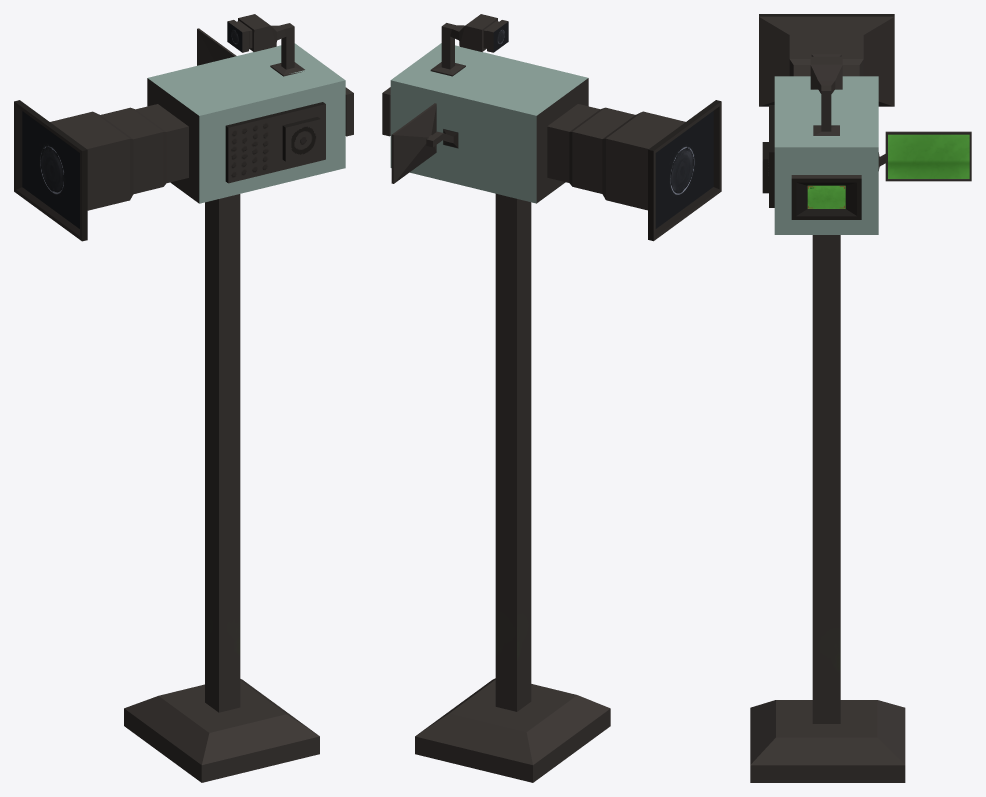
The model's file is Camera_Stand.fbx.
The picture shows the model from 3 angles, left to right: view 1: azimuth 30°, elevation 25°; view 2: azimuth 150°, elevation 25°; view 3: azimuth 270°, elevation 25°; orthographic projection.
Visible parts, largest first — view 1: Camera; view 2: Camera; view 3: Camera.
Boxes of the visible parts, x1,y1,x2,y2 form: Camera: [14, 14, 353, 782]; Camera: [382, 14, 721, 782]; Camera: [750, 14, 971, 782].
Size of the model in its own units: 282 by 664 by 188.
